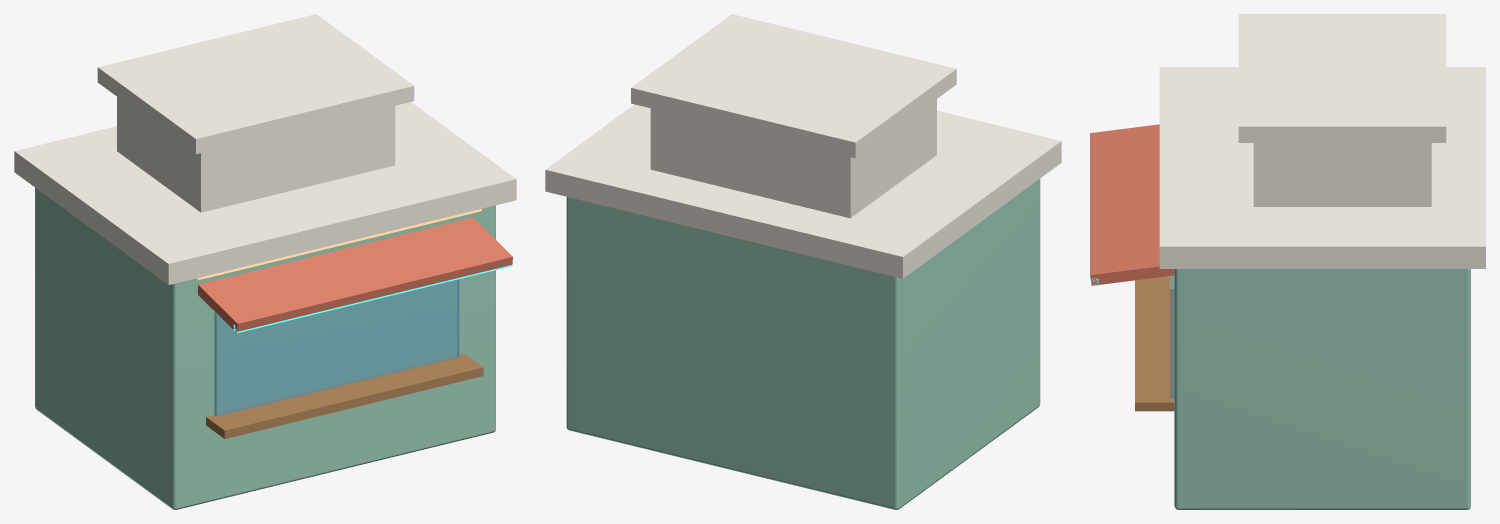
Rendered from kiosk_deco.glb.
The picture shows the model from 3 angles, left to right: view 1: azimuth 30°, elevation 25°; view 2: azimuth 150°, elevation 25°; view 3: azimuth 270°, elevation 25°; orthographic projection. The views are drawn at different scales.
Visible parts, largest first — view 1: kiosk_deco; view 2: kiosk_deco; view 3: kiosk_deco.
Part boxes in pixels (left/top/right/bottom): kiosk_deco: left=14, top=14, right=516, bottom=509; kiosk_deco: left=545, top=14, right=1061, bottom=509; kiosk_deco: left=1090, top=14, right=1485, bottom=509.
Bounding box in the file's own units: 4.3 × 3.99 × 4.
